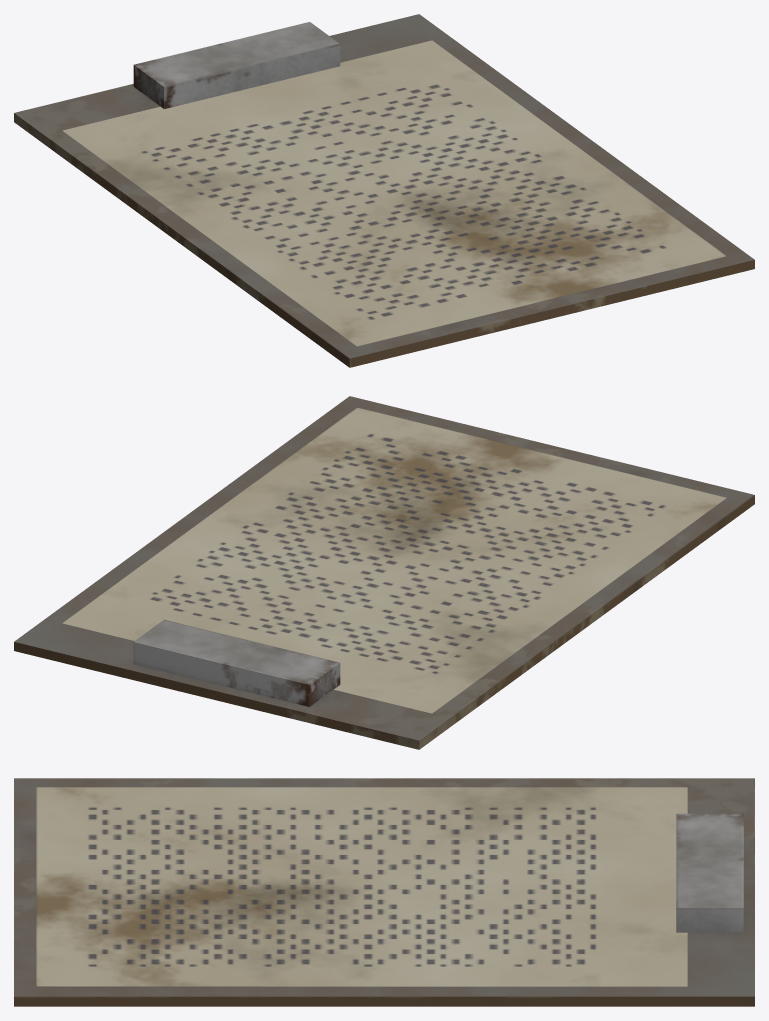
Rendered from SM_Clipboard.fbx.
The picture shows the model from 3 angles, top to bottom: view 1: azimuth 30°, elevation 25°; view 2: azimuth 150°, elevation 25°; view 3: azimuth 270°, elevation 25°; orthographic projection. The views are drawn at different scales.
Parts seen in each view (by area): view 1: SM_Clipboard; view 2: SM_Clipboard; view 3: SM_Clipboard.
Part boxes in pixels (<box>): SM_Clipboard: <box>14,14,754,367</box>; SM_Clipboard: <box>14,396,754,749</box>; SM_Clipboard: <box>14,778,754,1006</box>.
Bounding box in the file's own units: 0.23 × 0.018 × 0.33.
1 material, 1 textured.
